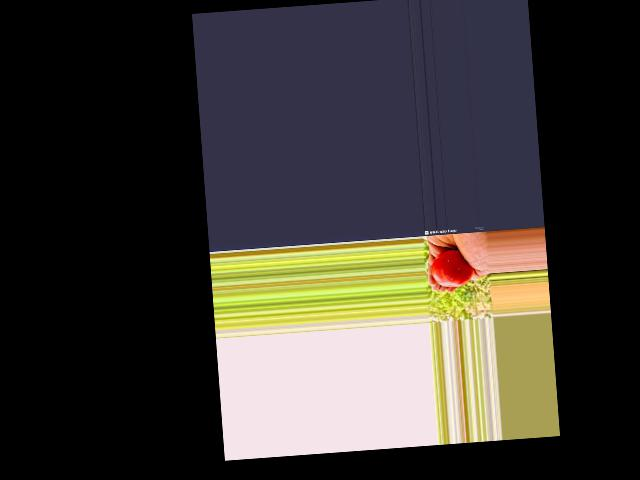tomato: (430, 248, 474, 288)
